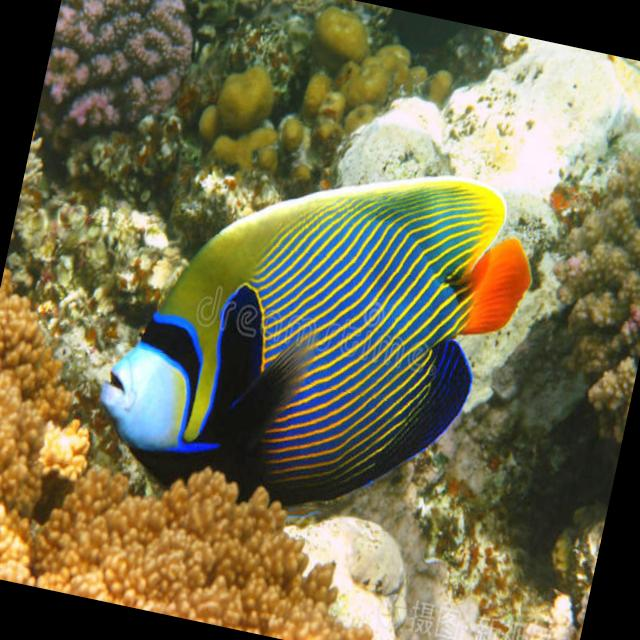AngelFish: (92, 119, 550, 532)
